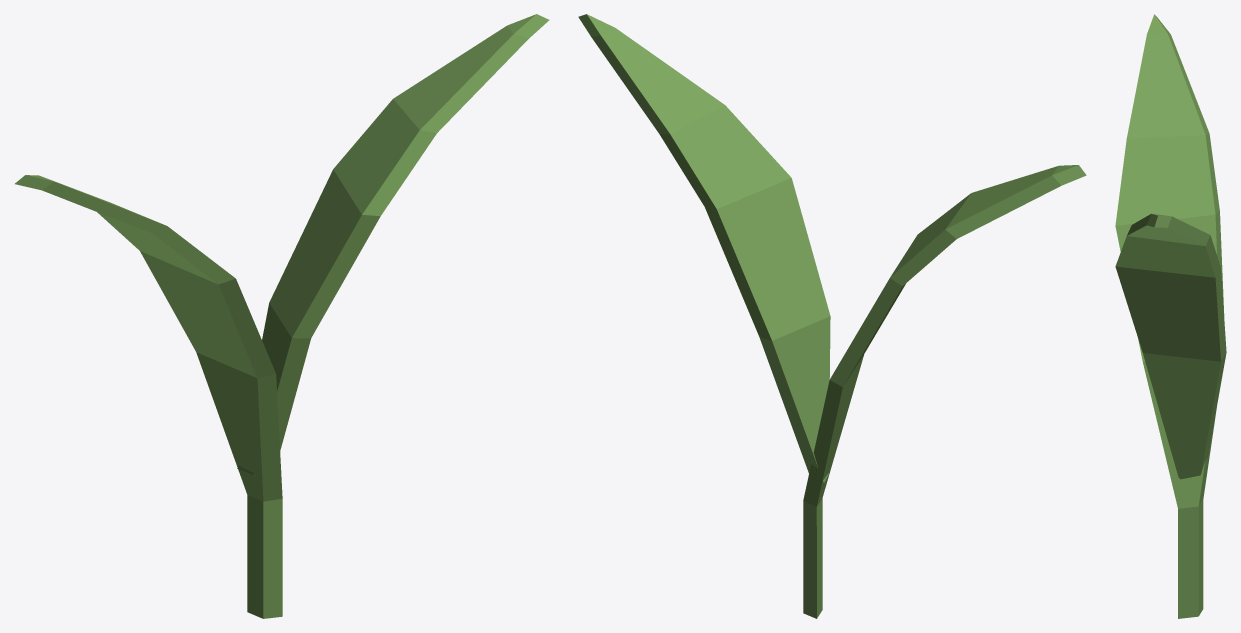
Rendered from Carrot_1.glb.
The picture shows the model from 3 angles, left to right: view 1: azimuth 30°, elevation 25°; view 2: azimuth 150°, elevation 25°; view 3: azimuth 270°, elevation 25°; orthographic projection. The views are drawn at different scales.
Parts seen in each view (by area): view 1: Carrot_1; view 2: Carrot_1; view 3: Carrot_1.
Boxes of the visible parts, left/top/right/bottom form: Carrot_1: left=15, top=14, right=549, bottom=618; Carrot_1: left=578, top=14, right=1086, bottom=618; Carrot_1: left=1115, top=14, right=1226, bottom=618.
Size of the model in its own units: 0.3551 by 0.3502 by 0.0686.
